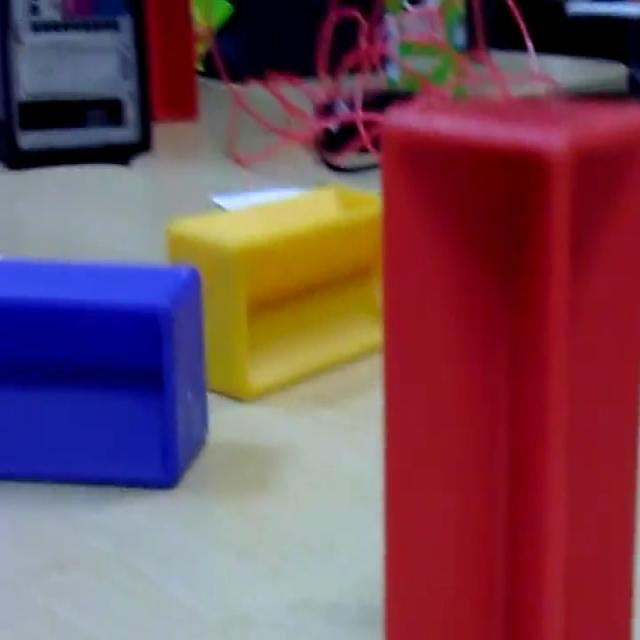blue_block: (0, 253, 208, 490)
red_block: (380, 88, 638, 636)
yellow_block: (165, 183, 384, 400)
